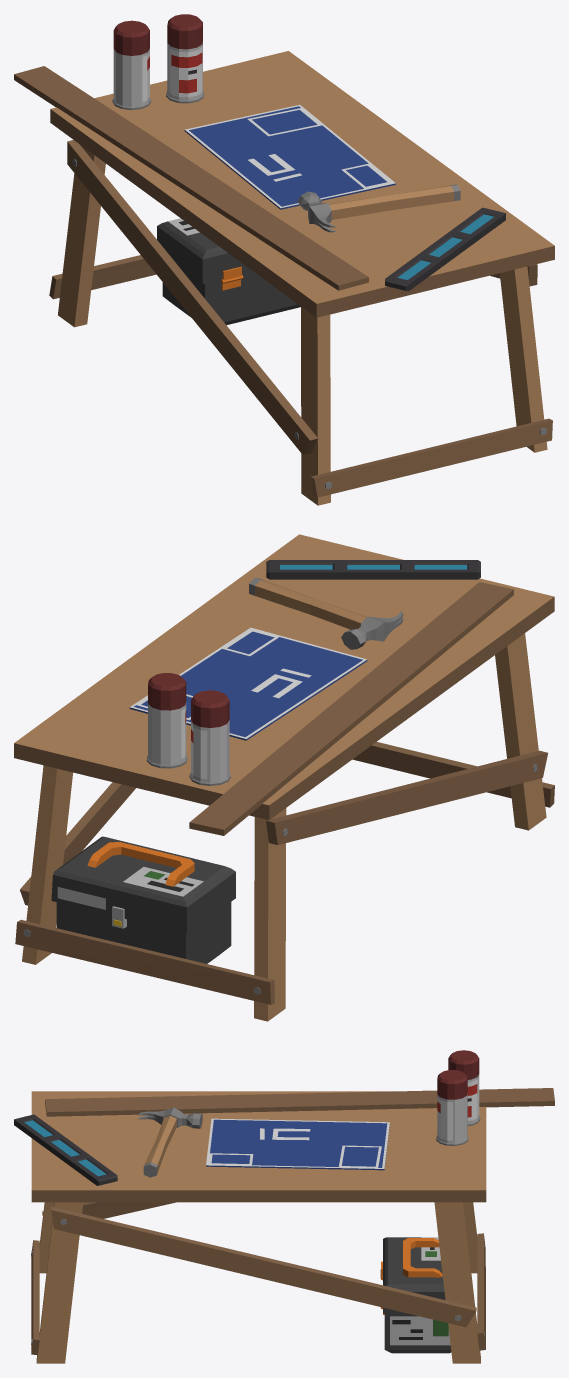
File: SM_workbench.gltf
3 renders of one model, top to bottom at view 1: azimuth 30°, elevation 25°; view 2: azimuth 150°, elevation 25°; view 3: azimuth 270°, elevation 25°, orthographic. The views are drawn at different scales.
Visible parts, largest first — view 1: SM_workbench; view 2: SM_workbench; view 3: SM_workbench.
Boxes of the visible parts, left/top/right/bottom form: SM_workbench: left=14, top=14, right=554, bottom=505; SM_workbench: left=14, top=534, right=554, bottom=1021; SM_workbench: left=14, top=1050, right=554, bottom=1363.
Size of the model in its own units: 1.11 by 1.23 by 2.52.
Materials: 1 (1 with a texture image).
